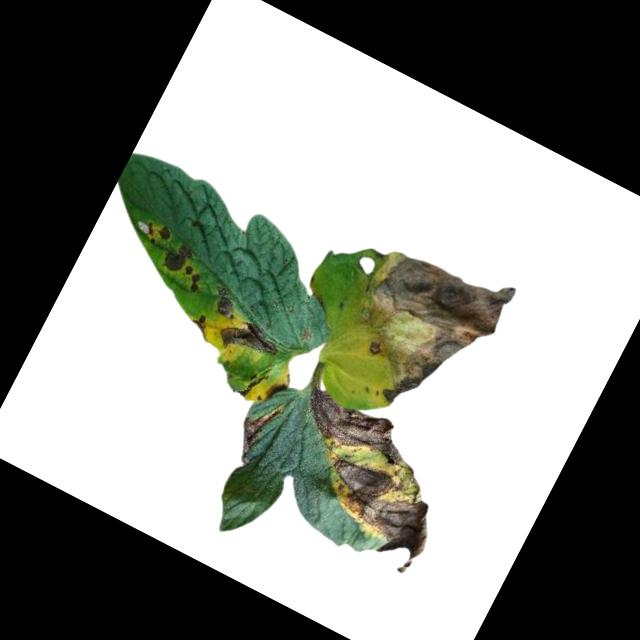Early_blight: (320, 223, 519, 433), (286, 439, 450, 580), (298, 381, 431, 481), (225, 392, 285, 470), (215, 310, 284, 369), (158, 239, 195, 280), (204, 283, 240, 320), (139, 216, 174, 250), (176, 263, 207, 296), (184, 309, 215, 341), (262, 377, 287, 404)
